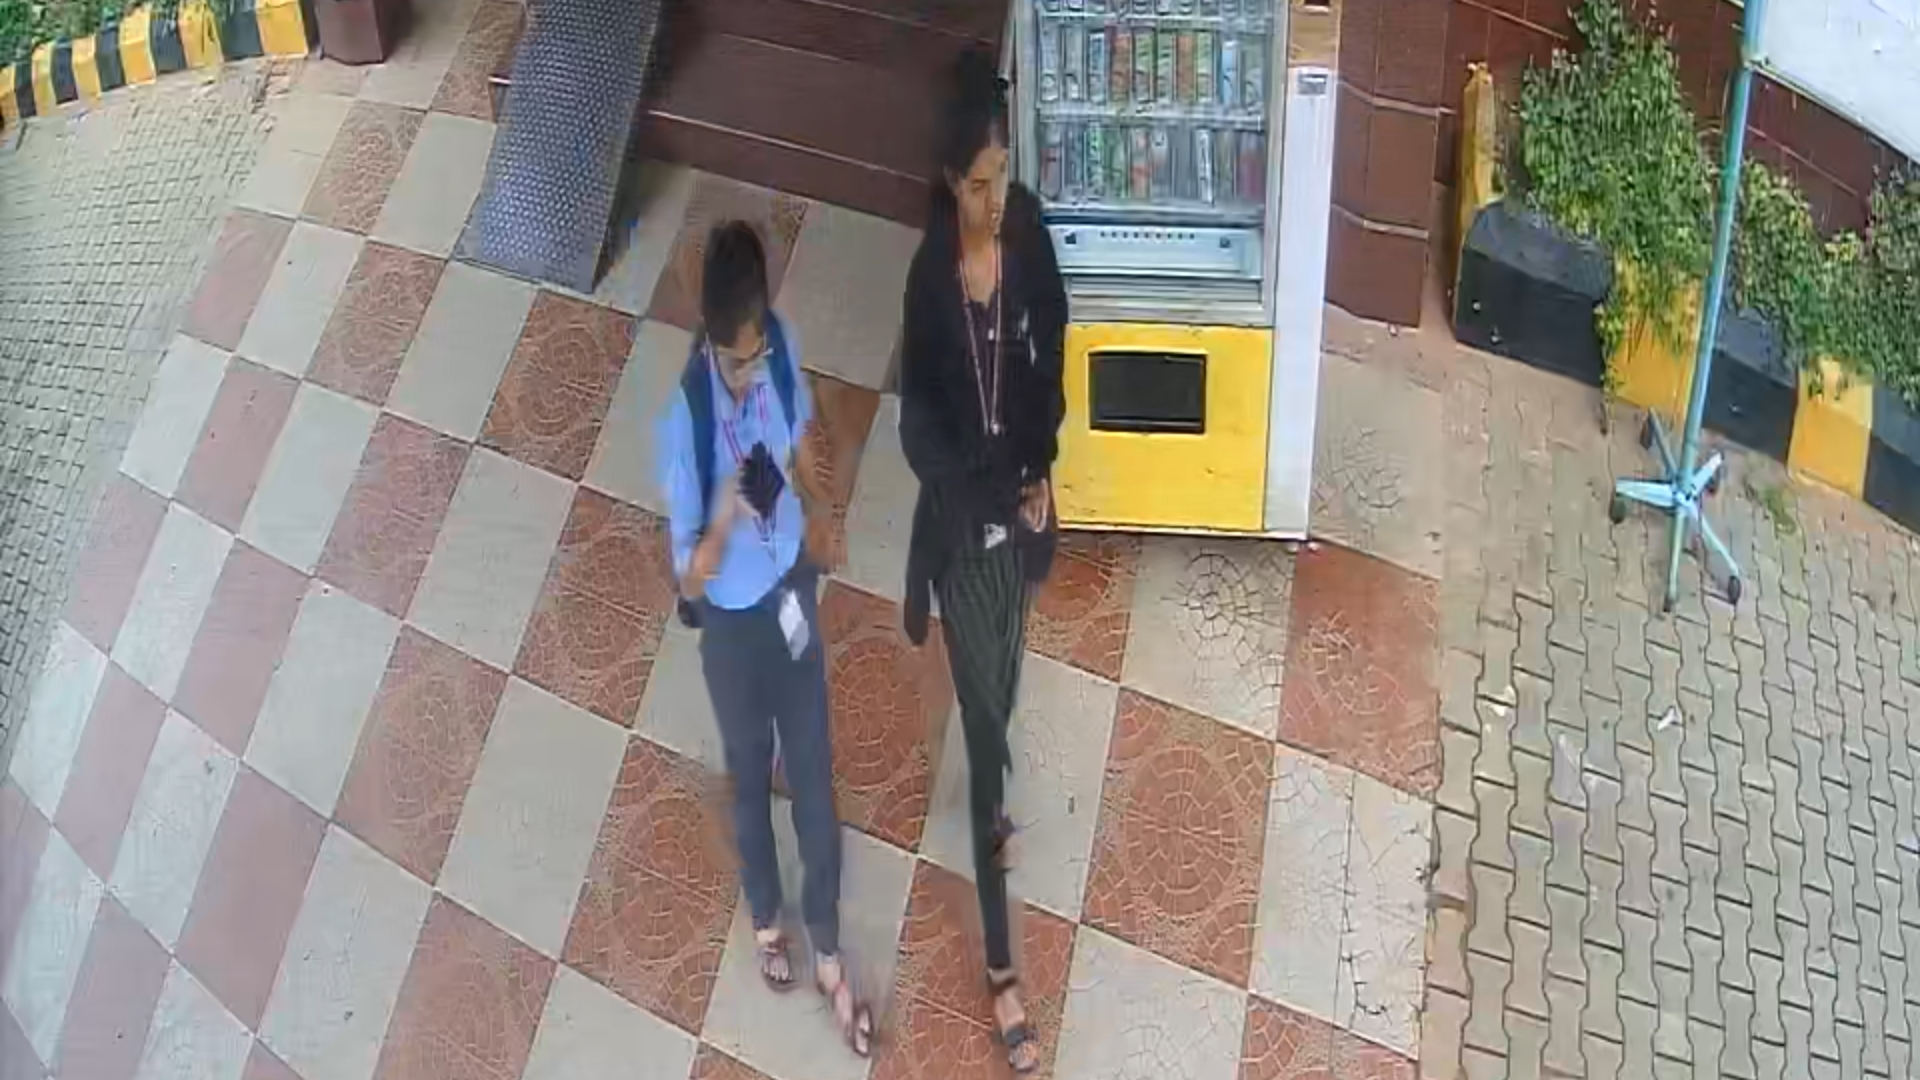not intruder: (646, 219, 902, 1063), (902, 44, 1077, 1080)
